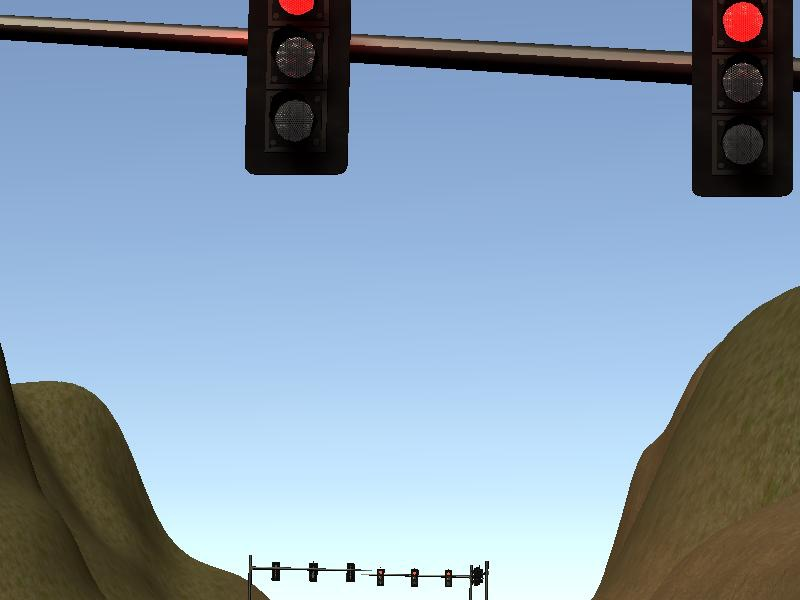Red: (241, 1, 361, 182), (689, 1, 795, 200), (374, 565, 388, 588), (408, 567, 420, 590), (442, 568, 454, 591)
